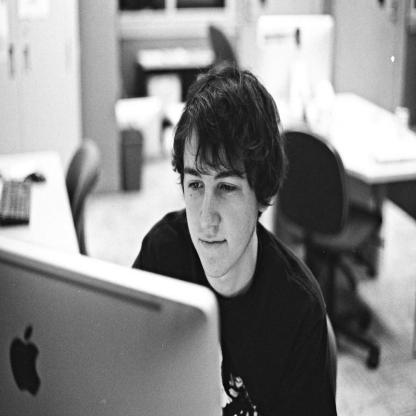board: (6, 226, 238, 406)
